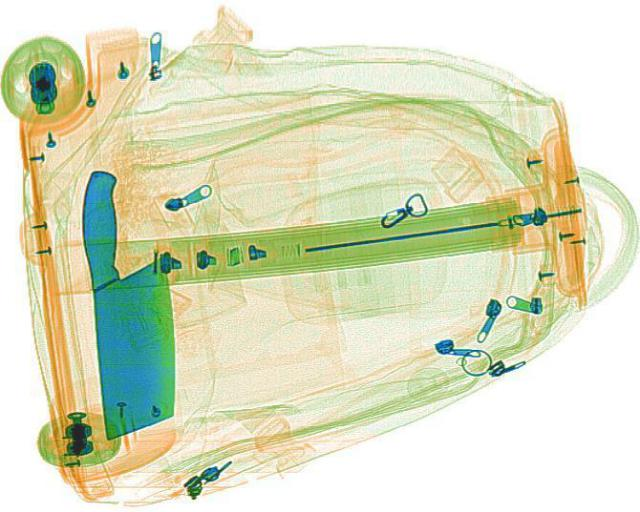Knife: (70, 164, 184, 437)
